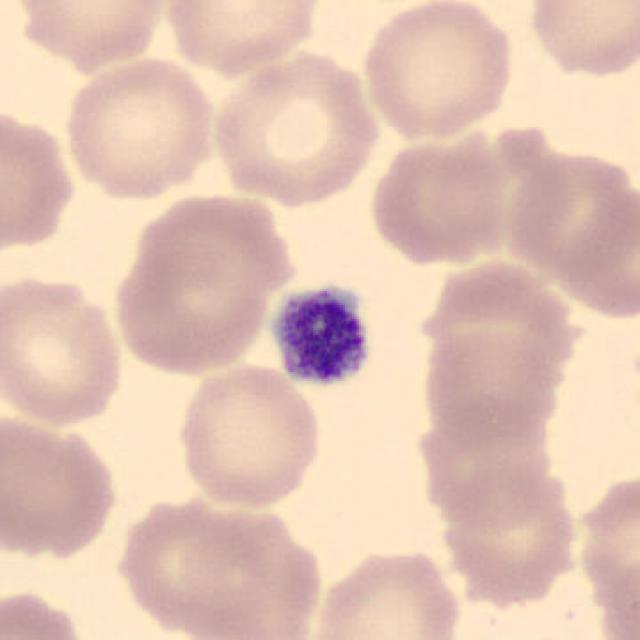Platelets: (263, 279, 377, 393)
RBC: (109, 187, 298, 379), (107, 490, 327, 638), (208, 44, 384, 208), (59, 53, 222, 203), (500, 139, 638, 316), (172, 360, 326, 513), (357, 0, 519, 143), (420, 264, 590, 398), (434, 462, 581, 605), (364, 127, 512, 268), (0, 268, 130, 428), (416, 335, 570, 460), (0, 408, 123, 562), (420, 388, 561, 519), (304, 543, 466, 640), (160, 0, 331, 78), (0, 102, 80, 258), (7, 0, 174, 72), (570, 467, 640, 629), (523, 0, 638, 83), (0, 585, 91, 640)
